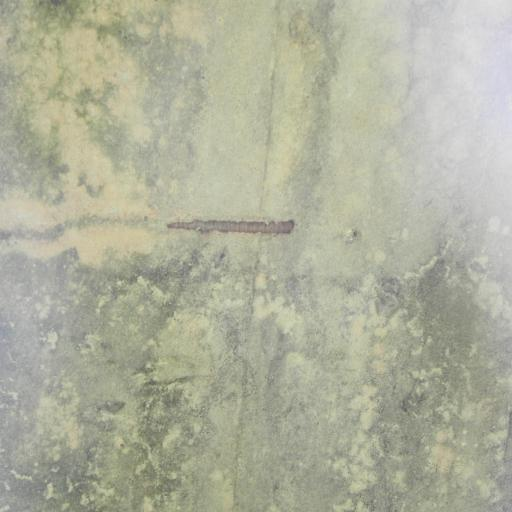exposed_rebar: (167, 219, 294, 233)
